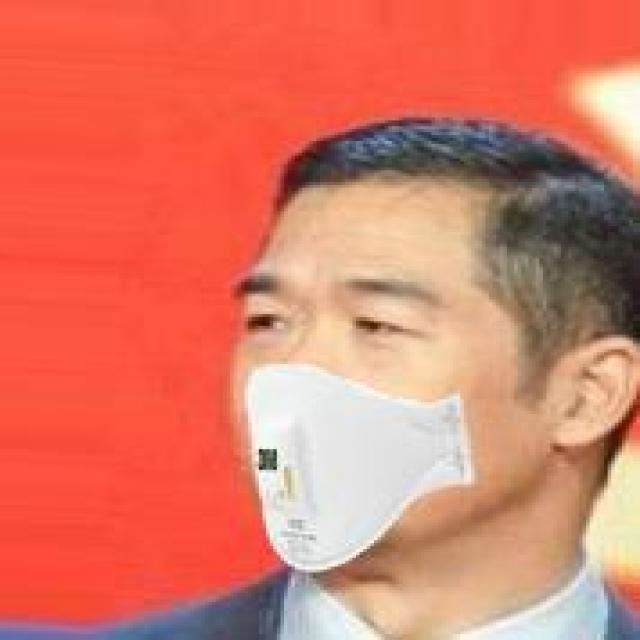mask: (183, 88, 640, 581)
